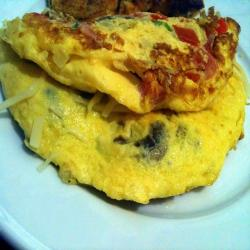omelette: (3, 15, 242, 205)
